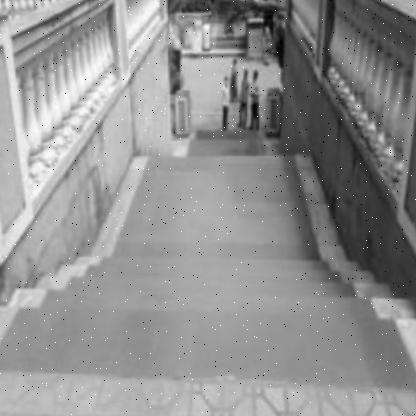stair_down: (83, 233, 342, 348)
